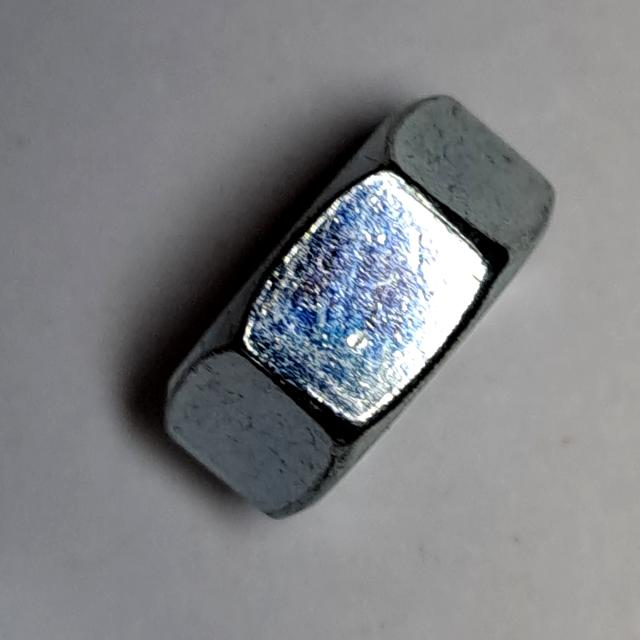Side_Excellent: (143, 79, 583, 545)
